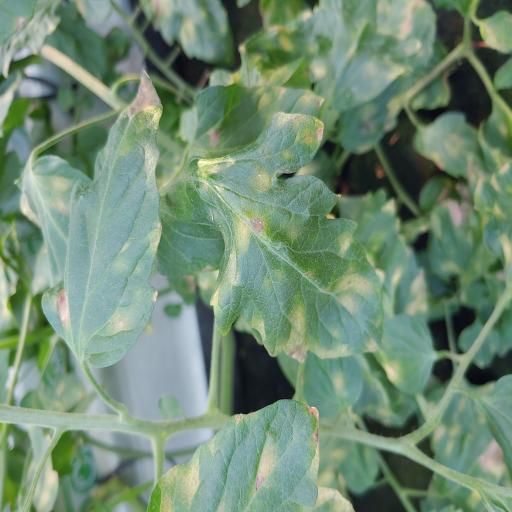Leaf Mold: (156, 82, 382, 362), (41, 68, 163, 365)
